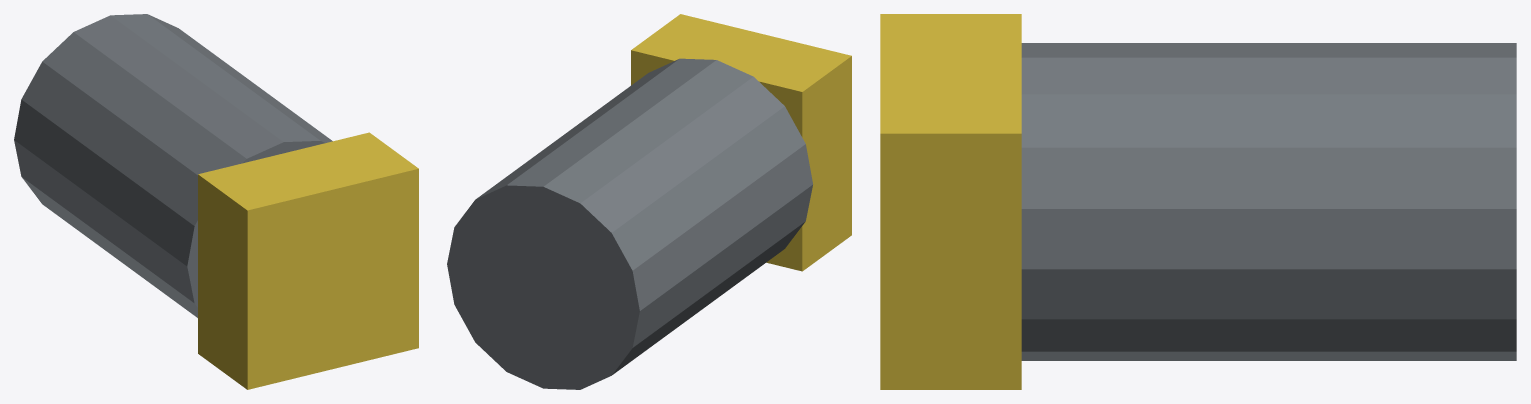
File: flashbang.glb
The picture shows the model from 3 angles, left to right: view 1: azimuth 30°, elevation 25°; view 2: azimuth 150°, elevation 25°; view 3: azimuth 270°, elevation 25°; orthographic projection. The views are drawn at different scales.
Parts seen in each view (by area): view 1: g0_body, g1_top; view 2: g0_body, g1_top; view 3: g0_body, g1_top.
Boxes of the visible parts, left/top/right/bottom form: g0_body: left=14, top=14, right=332, bottom=317; g1_top: left=198, top=132, right=418, bottom=389; g0_body: left=447, top=58, right=812, bottom=389; g1_top: left=631, top=14, right=851, bottom=271; g0_body: left=1021, top=43, right=1516, bottom=360; g1_top: left=880, top=14, right=1021, bottom=389.
Bounding box in the file's own units: 0.18 × 0.18 × 0.36.
